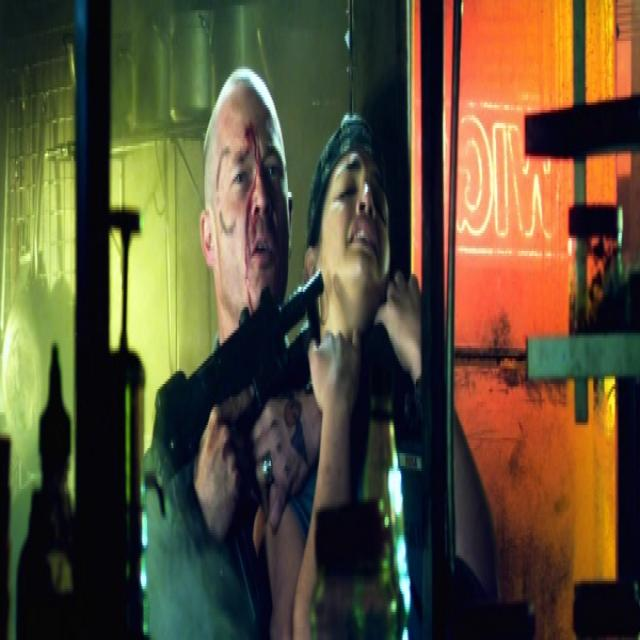rifle: (141, 268, 326, 510)
